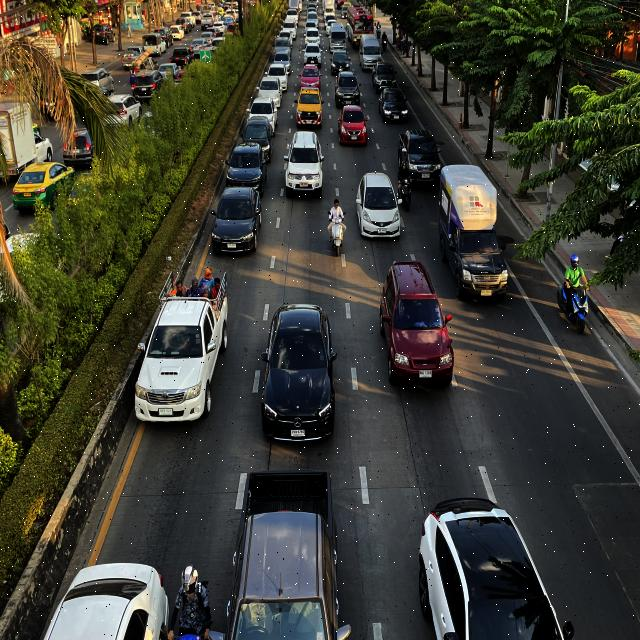bike: (160, 554, 220, 640), (552, 244, 595, 344), (322, 188, 352, 265), (394, 159, 418, 217)
truck: (132, 261, 230, 428), (437, 159, 514, 304)
